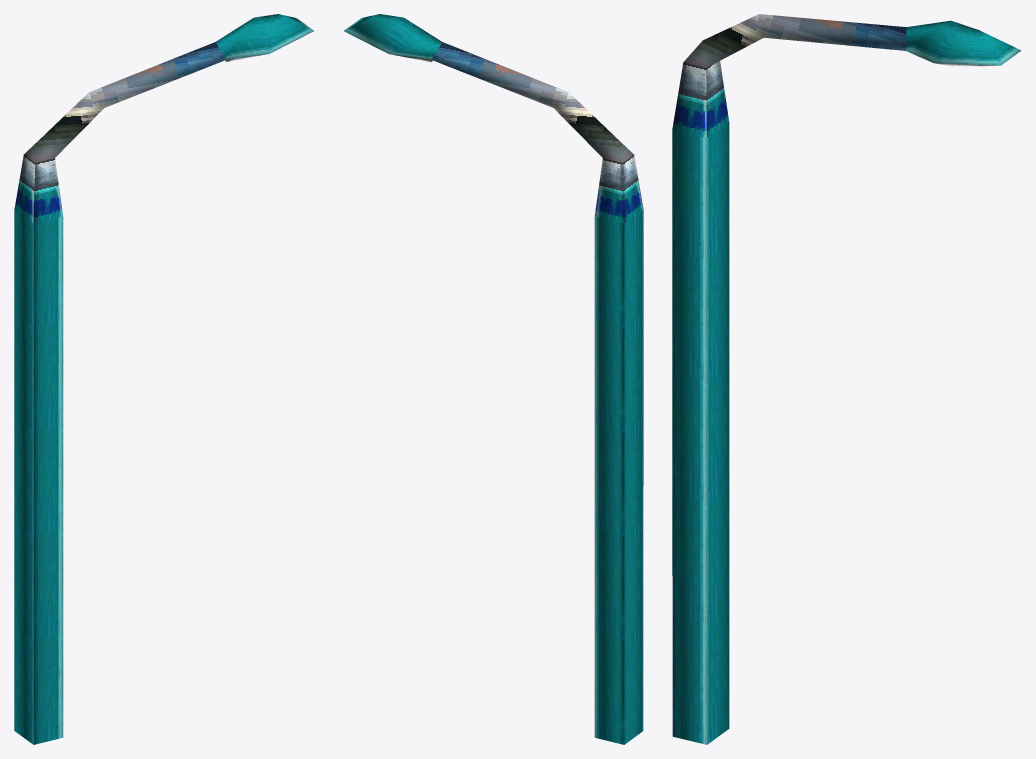
The model's file is Lamppost.obj.
The picture shows the model from 3 angles, left to right: view 1: azimuth 30°, elevation 25°; view 2: azimuth 150°, elevation 25°; view 3: azimuth 330°, elevation 25°; orthographic projection. The views are drawn at different scales.
Bounding box in the file's own units: 35.84 × 80.78 × 6.72.
Materials: 4 (4 with a texture image).
